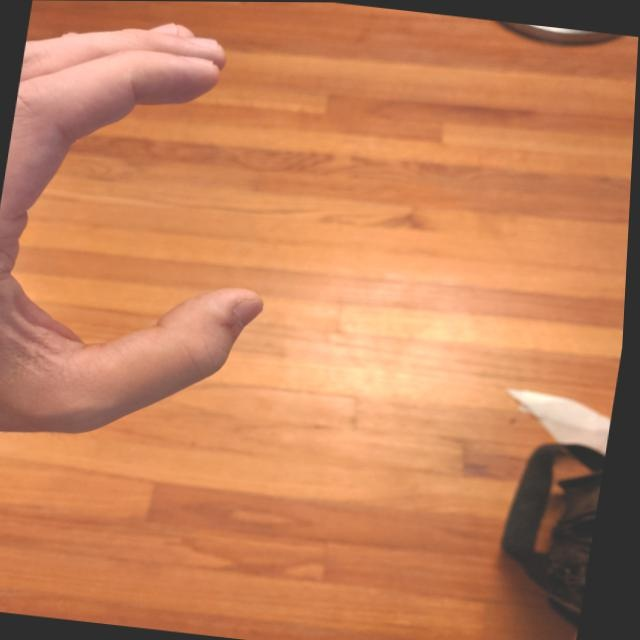C: (0, 0, 320, 481)
